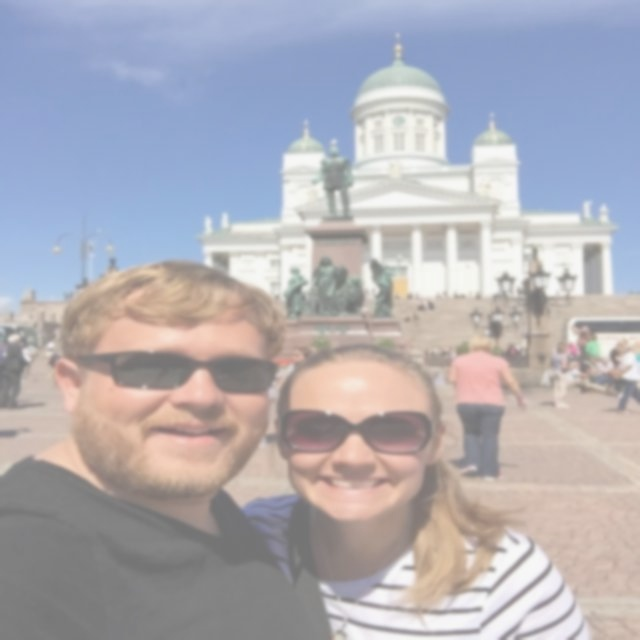pessoa: (0, 260, 338, 640), (232, 342, 596, 640), (443, 332, 528, 480), (362, 280, 484, 328), (280, 251, 350, 318), (308, 135, 360, 224), (242, 351, 282, 447), (0, 332, 31, 408), (605, 344, 639, 410), (546, 343, 576, 409), (43, 326, 63, 391), (608, 340, 630, 396), (578, 354, 608, 394), (578, 197, 618, 224), (196, 208, 234, 235), (565, 360, 593, 394), (287, 346, 316, 378), (569, 324, 593, 362), (362, 256, 397, 282), (20, 342, 38, 380), (380, 156, 408, 180), (0, 340, 14, 381), (592, 356, 609, 386), (553, 340, 578, 360), (20, 337, 40, 360), (584, 334, 601, 356), (59, 286, 78, 304), (504, 340, 522, 358), (590, 354, 601, 370), (440, 346, 454, 356), (633, 340, 639, 363), (406, 340, 414, 348), (622, 338, 630, 346)
